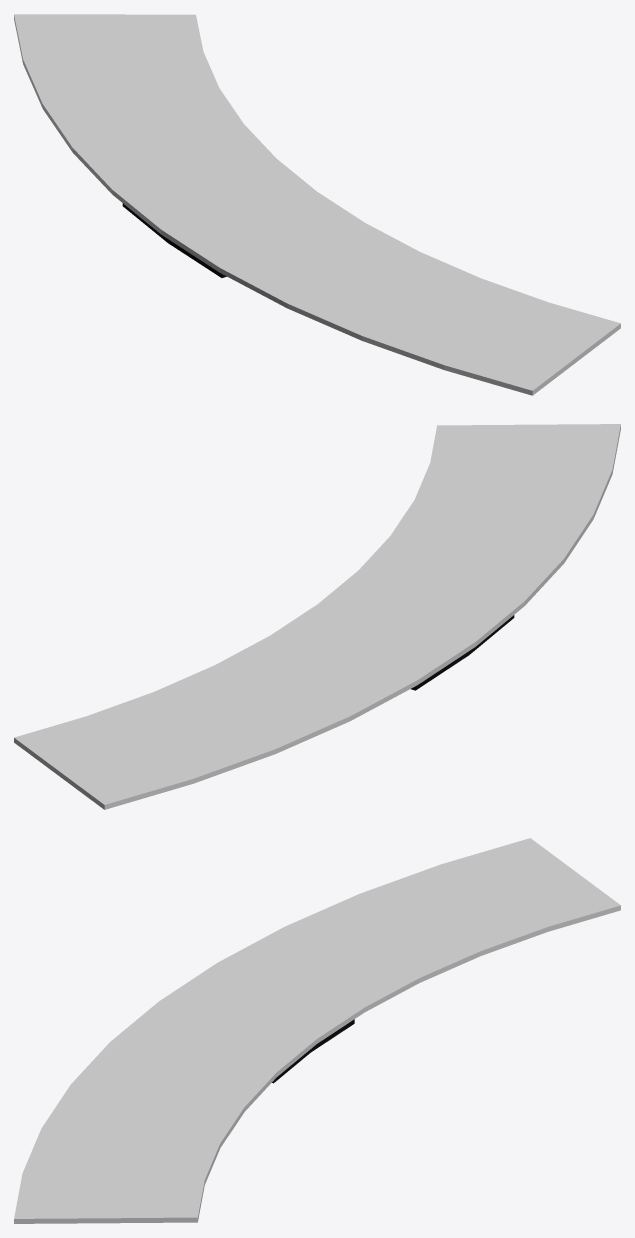
File: pinball_world_menu.gltf
3 views of the same model, one above another, from view 1: azimuth 30°, elevation 25°; view 2: azimuth 150°, elevation 25°; view 3: azimuth 330°, elevation 25° (orthographic).
Parts seen in each view (by area): view 1: Menu Glass; view 2: Menu Glass; view 3: Menu Glass.
Part boxes in pixels (bbox=[...]): Menu Glass: bbox=[14, 14, 620, 395]; Menu Glass: bbox=[14, 424, 620, 809]; Menu Glass: bbox=[14, 838, 620, 1223].
Size of what is drawn, in the model's own units: 0.2626 by 0.015 by 0.9428.
1 material, 1 textured.
